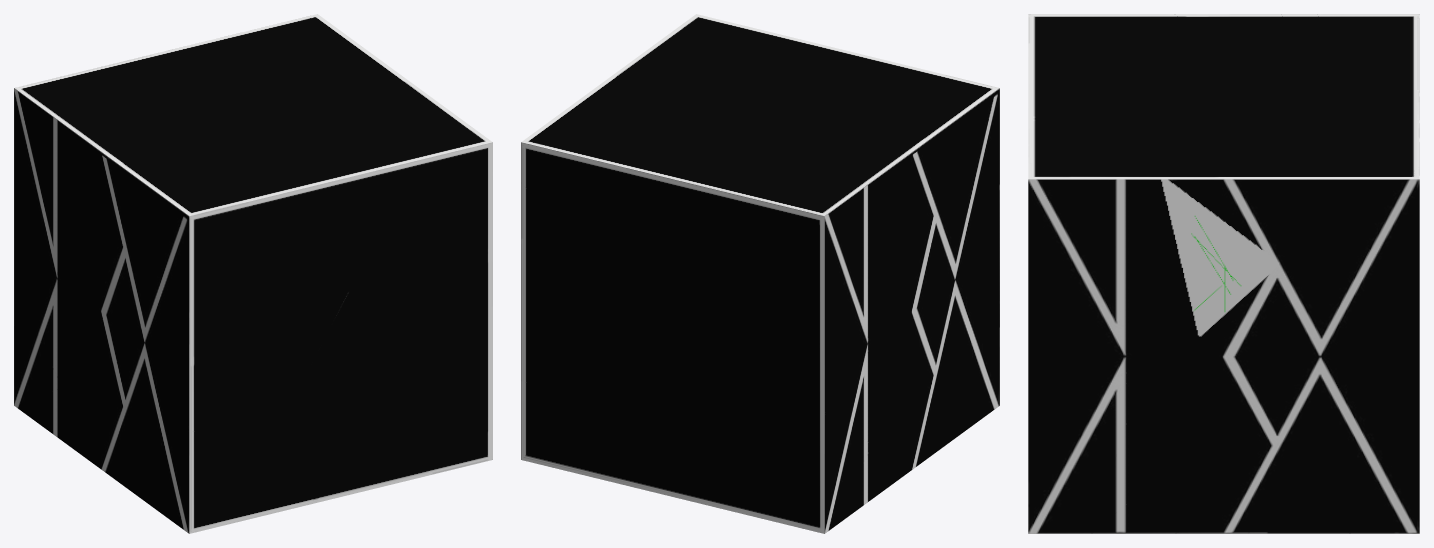
The model's file is DBX_fragment 1.fbx.
3 views of the same model, side by side, from view 1: azimuth 30°, elevation 25°; view 2: azimuth 150°, elevation 25°; view 3: azimuth 270°, elevation 25° (orthographic). The views are drawn at different scales.
Visible parts, largest first — view 1: Face0, Face3, Back21, Back5, Back4, Back14, Back22, Back9, Back10, Back0, Back11, Back19 (+12 smaller); view 2: Face2, Face3, Back21, Back5, Back4, Back14, Back9, Back22, Back10, Back11, Back0, Back19 (+12 smaller); view 3: Face3, Front12, Front13, Front15, Front4, Front7, Front1, Front14, Front3, Front11, Front10, Front5 (+5 smaller).
Part boxes in pixels (x1,y1,x2,y2): Face0: (189, 142, 492, 533); Face3: (14, 14, 492, 216); Back21: (14, 88, 60, 286); Back5: (148, 217, 189, 429); Back4: (139, 263, 189, 431); Back14: (60, 122, 92, 313); Back22: (14, 88, 60, 285); Back9: (93, 169, 138, 341); Back10: (93, 314, 138, 464); Back0: (144, 431, 189, 533); Back11: (95, 342, 138, 494); Back19: (14, 286, 61, 405); Face2: (521, 142, 824, 533); Face3: (521, 14, 999, 216); Back21: (824, 217, 870, 412); Back5: (958, 88, 999, 302); Back4: (949, 196, 999, 369); Back14: (870, 171, 903, 346); Back9: (903, 137, 949, 325); Back22: (824, 183, 871, 346); Back10: (903, 287, 949, 473); Back11: (906, 289, 949, 473); Back0: (954, 303, 999, 423); Back19: (824, 414, 872, 533); Face3: (1028, 14, 1419, 179); Front12: (1028, 179, 1200, 392); Front13: (1028, 299, 1136, 533); Front15: (1277, 179, 1419, 341); Front4: (1299, 225, 1419, 445); Front7: (1137, 264, 1277, 445); Front1: (1249, 444, 1418, 533); Front14: (1091, 393, 1196, 533); Front3: (1248, 342, 1359, 533); Front11: (1164, 180, 1276, 333); Front10: (1164, 179, 1277, 263); Front5: (1196, 342, 1276, 472).
Bounding box in the file's own units: 200 × 200 × 200.
1 material, 1 textured.
